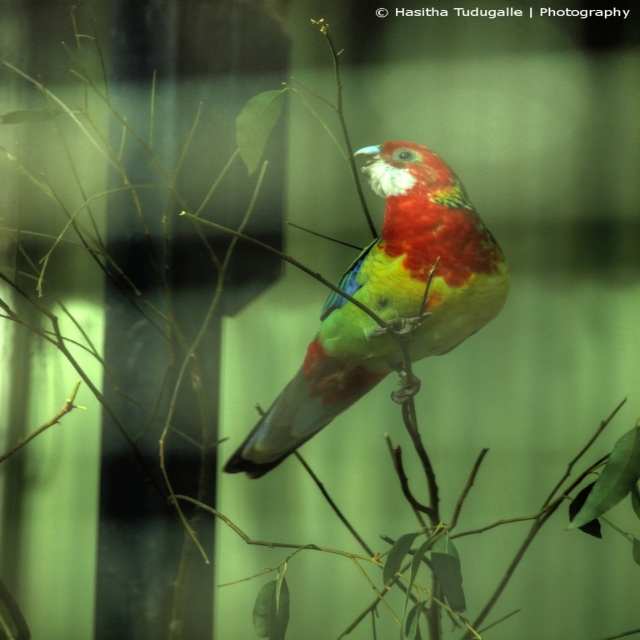Parrot: (224, 141, 510, 479)
